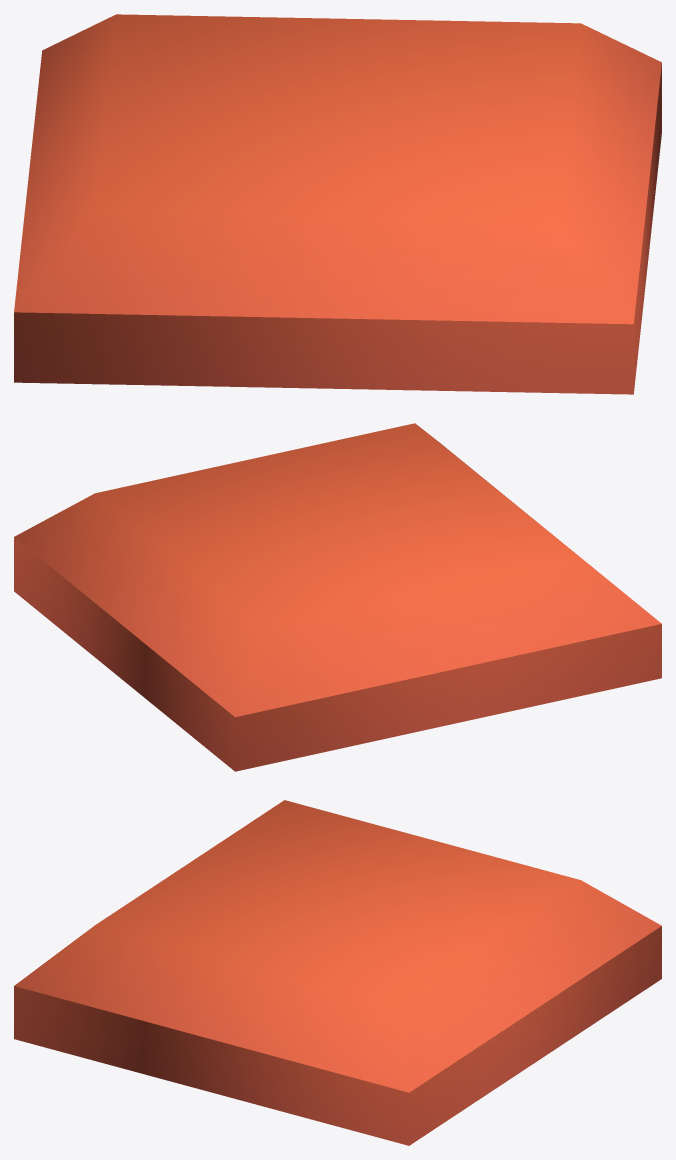
File: n5_n5_n5_button_lev5.001.glb
The picture shows the model from 3 angles, top to bottom: view 1: azimuth 30°, elevation 25°; view 2: azimuth 150°, elevation 25°; view 3: azimuth 270°, elevation 25°; orthographic projection. The views are drawn at different scales.
Parts seen in each view (by area): view 1: n5_n5_n5_button_lev5.001; view 2: n5_n5_n5_button_lev5.001; view 3: n5_n5_n5_button_lev5.001.
Part boxes in pixels (box(x1,y1,x2,y2)): n5_n5_n5_button_lev5.001: box(14, 14, 661, 394); n5_n5_n5_button_lev5.001: box(14, 423, 661, 771); n5_n5_n5_button_lev5.001: box(14, 800, 661, 1145).
Bounding box in the file's own units: 1.4 × 0.2541 × 1.4.
Materials: 1 (1 with a texture image).
